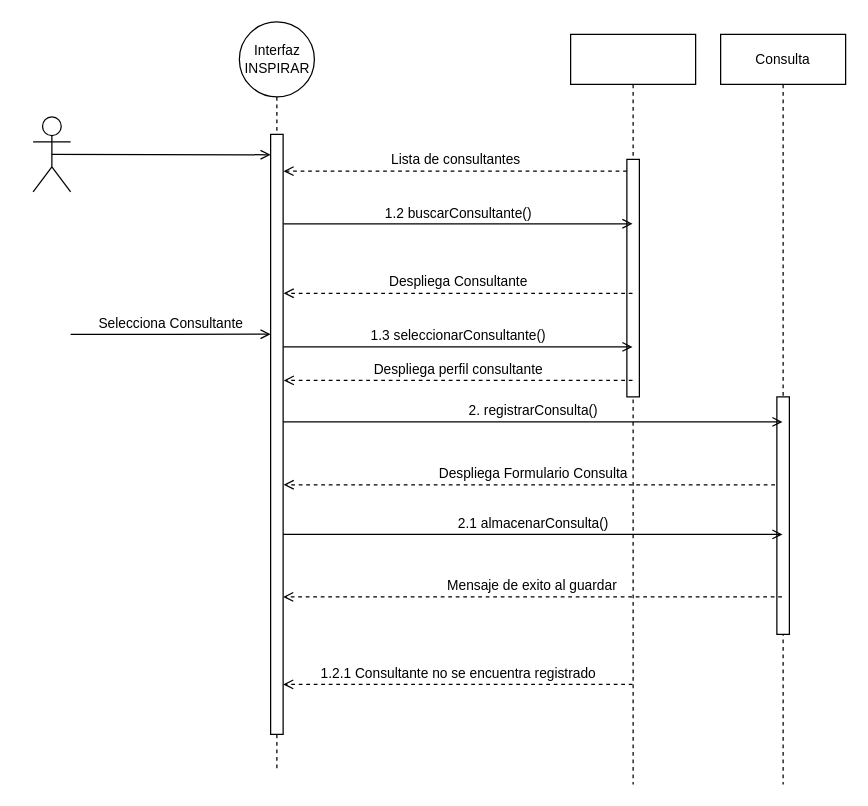
This 868x806 diagram has some shape labels left out. Each missing label, with the centre of its shape:
"Consultante" goes at [632,408].
"Psicólogo" goes at [51,154].
